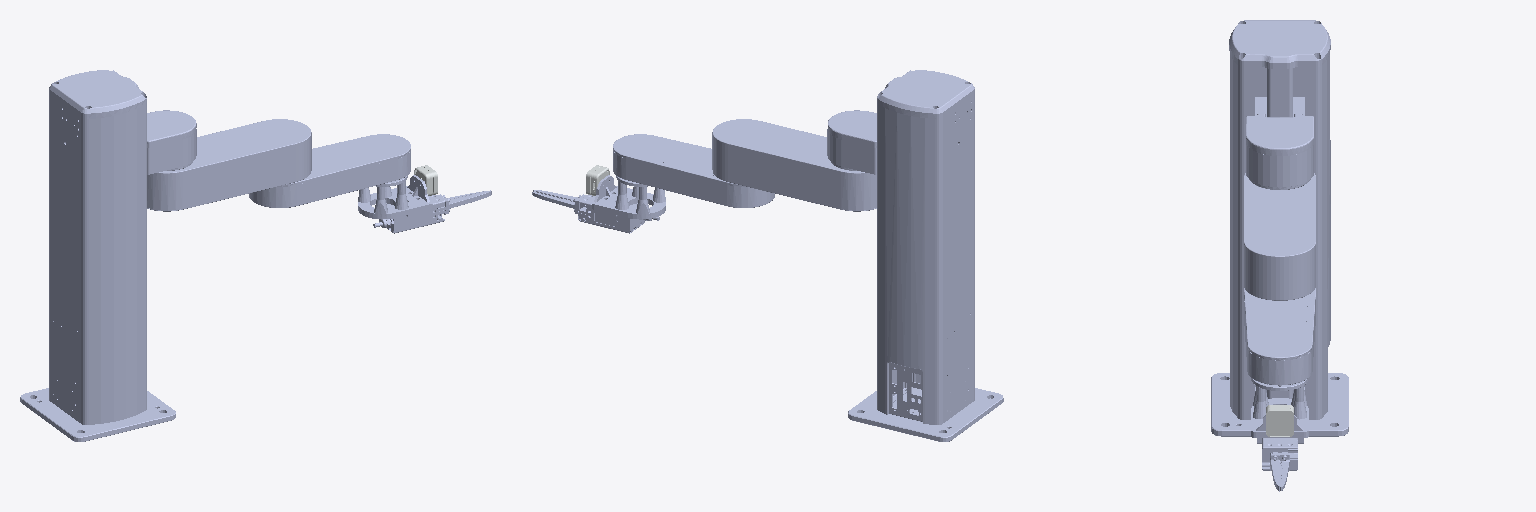
URDF robot description (hitbot_model):
<?xml version="1.0" encoding="utf-8"?>
<!-- This URDF was automatically created by SolidWorks to URDF Exporter! Originally created by [author] ([email redacted]) 
     Commit Version: 1.5.1-0-g916b5db  Build Version: 1.5.7152.31018
     For more information, please see http://wiki.ros.org/sw_urdf_exporter -->
<robot
  name="hitbot_model">
  <link name="world"/>
  <joint name="dz_joint" type="fixed">
      <parent link="world"/>
      <child link="body_link"/>
      <origin rpy="0 0 0" xyz="0.0 0.0 0"/>
  </joint>
  <link
    name="body_link">
    <inertial>
      <origin
        xyz="-0.0138312293560343 -0.000411866053746691 0.256337160167261"
        rpy="0 0 0" />
      <mass
        value="2.24199007833205" />
      <inertia
        ixx="0.050666129235398"
        ixy="5.31521674438104E-05"
        ixz="-0.000156170450349902"
        iyy="0.0494693482466178"
        iyz="-0.000576315154792083"
        izz="0.0102402447612877" />
    </inertial>
    <visual>
      <origin
        xyz="0 0 0"
        rpy="0 0 0" />
      <geometry>
        <mesh
          filename="package://hitbot_model/meshes/body_link.STL" />
      </geometry>
      <material
        name="">
        <color
          rgba="0.792156862745098 0.819607843137255 0.933333333333333 1" />
      </material>
    </visual>
    <collision>
      <origin
        xyz="0 0 0"
        rpy="0 0 0" />
      <geometry>
        <mesh
          filename="package://hitbot_model/meshes/body_link.STL" />
      </geometry>
    </collision>
  </link>
  <link
    name="base_link">
    <inertial>
      <origin
        xyz="-0.000504238516685096 1.59154905932969E-05 0.0050014568900997"
        rpy="0 0 0" />
      <mass
        value="0.094490170783716" />
      <inertia
        ixx="0.000178624359738372"
        ixy="-8.40549948296889E-08"
        ixz="2.54546420096447E-07"
        iyy="0.000156117511701691"
        iyz="-1.49252877491603E-08"
        izz="0.00033012228687413" />
    </inertial>
    <visual>
      <origin
        xyz="0 0 0"
        rpy="0 0 0" />
      <geometry>
        <mesh
          filename="package://hitbot_model/meshes/base_link.STL" />
      </geometry>
      <material
        name="">
        <color
          rgba="0.792156862745098 0.819607843137255 0.933333333333333 1" />
      </material>
    </visual>
    <collision>
      <origin
        xyz="0 0 0"
        rpy="0 0 0" />
      <geometry>
        <mesh
          filename="package://hitbot_model/meshes/base_link.STL" />
      </geometry>
    </collision>
  </link>
  <joint
    name="base_joint"
    type="fixed">
    <origin
      xyz="0.00090051088649255 7.09655350831888E-05 0.5959999999999"
      rpy="-3.14159265358979 0 0" />
    <parent
      link="body_link" />
    <child
      link="base_link" />
    <axis
      xyz="0 0 0" />
  </joint>
  <link
    name="link1">
    <inertial>
      <origin
        xyz="0.0803198875267692 0.000148780846096892 0.0252265897594202"
        rpy="0 0 0" />
      <mass
        value="0.993707406775757" />
      <inertia
        ixx="0.000950129221388707"
        ixy="1.444594708905E-05"
        ixz="-7.3306728552493E-05"
        iyy="0.0034288996904372"
        iyz="-2.09120551931999E-06"
        izz="0.00392501623548472" />
    </inertial>
    <visual>
      <origin
        xyz="0 0 0"
        rpy="0 0 0" />
      <geometry>
        <mesh
          filename="package://hitbot_model/meshes/link1.STL" />
      </geometry>
      <material
        name="">
        <color
          rgba="0.792156862745098 0.819607843137255 0.933333333333333 1" />
      </material>
    </visual>
    <collision>
      <origin
        xyz="0 0 0"
        rpy="0 0 0" />
      <geometry>
        <mesh
          filename="package://hitbot_model/meshes/link1.STL" />
      </geometry>
    </collision>
  </link>
  <joint
    name="joint1"
    type="prismatic">
    <origin
      xyz="0 0 0.1059"
      rpy="0 0 0" />
    <parent
      link="base_link" />
    <child
      link="link1" />
    <axis
      xyz="0 0 -1" />
    <limit
      lower="-0.24"
      upper="0"
      effort="20000"
      velocity="1" />
  </joint>
  <link
    name="link2">
    <inertial>
      <origin
        xyz="0.111249550444613 -2.84576828027787E-05 0.0351257105818027"
        rpy="0 0 0" />
      <mass
        value="2.38895531285534" />
      <inertia
        ixx="0.00304095107135875"
        ixy="-2.82822461071595E-06"
        ixz="-9.45396417967291E-05"
        iyy="0.019383542501021"
        iyz="1.44224511595836E-08"
        izz="0.0205254157711382" />
    </inertial>
    <visual>
      <origin
        xyz="0 0 0"
        rpy="0 0 0" />
      <geometry>
        <mesh
          filename="package://hitbot_model/meshes/link2.STL" />
      </geometry>
      <material
        name="">
        <color
          rgba="0.792156862745098 0.819607843137255 0.933333333333333 1" />
      </material>
    </visual>
    <collision>
      <origin
        xyz="0 0 0"
        rpy="0 0 0" />
      <geometry>
        <mesh
          filename="package://hitbot_model/meshes/link2.STL" />
      </geometry>
    </collision>
  </link>
  <joint
    name="joint2"
    type="revolute">
    <origin
      xyz="0.13184 0 0.057"
      rpy="0 0 0" />
    <parent
      link="link1" />
    <child
      link="link2" />
    <axis
      xyz="0 0 -1" />
    <limit
      lower="-1.57"
      upper="1.57"
      effort="20"
      velocity="1" />
  </joint>
  <link
    name="link3">
    <inertial>
      <origin
        xyz="0.103737453550935 0.000112252164890934 0.0245926645099695"
        rpy="0 0 0" />
      <mass
        value="1.27407967572994" />
      <inertia
        ixx="0.00115905903075006"
        ixy="1.78715743351137E-06"
        ixz="7.11254737335535E-06"
        iyy="0.00812504052713108"
        iyz="3.79494507754339E-07"
        izz="0.00893595498849774" />
    </inertial>
    <visual>
      <origin
        xyz="0 0 0"
        rpy="0 0 0" />
      <geometry>
        <mesh
          filename="package://hitbot_model/meshes/link3.STL" />
      </geometry>
      <material
        name="">
        <color
          rgba="0.792156862745098 0.819607843137255 0.933333333333333 1" />
      </material>
    </visual>
    <collision>
      <origin
        xyz="0 0 0"
        rpy="0 0 0" />
      <geometry>
        <mesh
          filename="package://hitbot_model/meshes/link3.STL" />
      </geometry>
    </collision>
  </link>
  <joint
    name="joint3"
    type="revolute">
    <origin
      xyz="0.22 -9.923E-05 0.0722"
      rpy="0 0 0" />
    <parent
      link="link2" />
    <child
      link="link3" />
    <axis
      xyz="0 0 -1" />
    <limit
      lower="-2.861"
      upper="0.093"
      effort="20"
      velocity="1" />
  </joint>
  <link
    name="link4">
    <inertial>
      <origin
        xyz="0.047710269908173 0.000213944685098902 0.0678912049954343"
        rpy="0 0 0" />
      <mass
        value="0.328984309694729" />
      <inertia
        ixx="0.000170449435352089"
        ixy="2.86360847822236E-06"
        ixz="-1.39959892192081E-05"
        iyy="0.000321403964098005"
        iyz="1.9821560726031E-07"
        izz="0.000398137912962931" />
    </inertial>
    <visual>
      <origin
        xyz="0 0 0"
        rpy="0 0 0" />
      <geometry>
        <mesh
          filename="package://hitbot_model/meshes/link4.STL" />
      </geometry>
      <material
        name="">
        <color
          rgba="0.792156862745098 0.819607843137255 0.933333333333333 1" />
      </material>
    </visual>
    <collision>
      <origin
        xyz="0 0 0"
        rpy="0 0 0" />
      <geometry>
        <mesh
          filename="package://hitbot_model/meshes/link4.STL" />
      </geometry>
    </collision>
  </link>
  <joint
    name="joint4"
    type="revolute">
    <origin
      xyz="0.2 0 0.0564"
      rpy="0 0 0" />
    <parent
      link="link3" />
    <child
      link="link4" />
    <axis
      xyz="0 0 -1" />
    <limit
      lower="-1.75"
      upper="1.75"
      effort="20"
      velocity="1" />
  </joint>
  <link
    name="camera_link">
    <inertial>
      <origin
        xyz="0.00721963040168849 -0.00886926154340457 0.000111441430784953"
        rpy="0 0 0" />
      <mass
        value="0.0107124467344152" />
      <inertia
        ixx="3.22097833750869E-06"
        ixy="6.5946739159959E-10"
        ixz="-1.78662070158775E-09"
        iyy="1.65806785361262E-06"
        iyz="3.75795546802764E-10"
        izz="1.834323215729E-06" />
    </inertial>
    <visual>
      <origin
        xyz="0 0 0"
        rpy="0 0 0" />
      <geometry>
        <mesh
          filename="package://hitbot_model/meshes/camera_link.STL" />
      </geometry>
      <material
        name="">
        <color
          rgba="0.898039215686275 0.917647058823529 0.929411764705882 1" />
      </material>
    </visual>
    <collision>
      <origin
        xyz="0 0 0"
        rpy="0 0 0" />
      <geometry>
        <mesh
          filename="package://hitbot_model/meshes/camera_link.STL" />
      </geometry>
    </collision>
  </link>
  <joint
    name="joint_camera"
    type="fixed">
    <origin
      xyz="0.08035 -0.009 0.0285"
      rpy="-3.1416 0 0" />
    <parent
      link="link4" />
    <child
      link="camera_link" />
    <axis
      xyz="0 0 0" />
  </joint>
  <link
    name="ee_link">
    <inertial>
      <origin
        xyz="-0.120961196947787 0.000840350747411248 0.0025036714107482"
        rpy="0 0 0" />
      <mass
        value="0.206819921782837" />
      <inertia
        ixx="6.24479115732683E-05"
        ixy="2.8640247649744E-06"
        ixz="-1.57867719100882E-08"
        iyy="0.00015978421821829"
        iyz="1.9833864532431E-07"
        izz="0.000179272223884709" />
    </inertial>
  </link>
  <joint
    name="ee_joint"
    type="fixed">
    <origin
      xyz="0.18355 -0.0005 0.077"
      rpy="3.14159265358979 0 0" />
    <parent
      link="link4" />
    <child
      link="ee_link" />
    <axis
      xyz="0 0 0" />
  </joint>


  <transmission name="link_1_trans">
	<type>transmission_interface/SimpleTransmission</type>
	<joint name="joint1">
		<hardwareInterface>hardware_interface/PositionJointInterface</hardwareInterface>
	</joint>
	<actuator name="link_1_motor">
		<hardwareInterface>hardware_interface/PositionJointInterface</hardwareInterface>
		<mechanicalReduction>1</mechanicalReduction>
	</actuator>
  </transmission>

  <transmission name="link_2_trans">
	<type>transmission_interface/SimpleTransmission</type>
	<joint name="joint2">
		<hardwareInterface>hardware_interface/PositionJointInterface</hardwareInterface>
	</joint>
	<actuator name="link_2_motor">
		<hardwareInterface>hardware_interface/PositionJointInterface</hardwareInterface>
		<mechanicalReduction>1</mechanicalReduction>
	</actuator>
  </transmission>

  <transmission name="link_3_trans">
	<type>transmission_interface/SimpleTransmission</type>
	<joint name="joint3">
		<hardwareInterface>hardware_interface/PositionJointInterface</hardwareInterface>
	</joint>
	<actuator name="link_3_motor">
		<hardwareInterface>hardware_interface/PositionJointInterface</hardwareInterface>
		<mechanicalReduction>1</mechanicalReduction>
	</actuator>
  </transmission>

  <transmission name="link_4_trans">
	<type>transmission_interface/SimpleTransmission</type>
	<joint name="joint4">
		<hardwareInterface>hardware_interface/PositionJointInterface</hardwareInterface>
	</joint>
	<actuator name="link_4_motor">
		<hardwareInterface>hardware_interface/PositionJointInterface</hardwareInterface>
		<mechanicalReduction>1</mechanicalReduction>
	</actuator>
  </transmission>
  <gazebo>
	<plugin name="control" filename="libgazebo_ros_control.so">
		<robotNamespace>/</robotNamespace>
	</plugin>
  </gazebo>

  <gazebo reference="link1">
	<selfCollide>true</selfCollide>
  </gazebo>

  <gazebo reference="link2">
	<selfCollide>true</selfCollide>
  </gazebo>

  <gazebo reference="link3">
	<selfCollide>true</selfCollide>
  </gazebo>

  <gazebo reference="link4">
	<selfCollide>true</selfCollide>
  </gazebo>
  
</robot>

--- What the picture shows (computed from the rendered views, not written in the file) ---
The picture shows the robot from 3 angles, left to right: view 1: azimuth 30°, elevation 25°; view 2: azimuth 150°, elevation 25°; view 3: azimuth 270°, elevation 25°; orthographic projection.
Robot: hitbot_model — 9 links, 8 joints (3 revolute, 1 prismatic, 4 fixed); root link world; default pose: every joint at zero.
Links seen in each view (by area): view 1: body_link, link2, link3, link4, link1; view 2: body_link, link2, link3, link4, link1; view 3: body_link, link2, link3, link1, link4, camera_link.
Boxes of the visible links, bbox=[...] form: body_link: bbox=[20, 70, 175, 441]; link2: bbox=[147, 119, 311, 211]; link3: bbox=[249, 134, 410, 207]; link4: bbox=[358, 175, 491, 233]; link1: bbox=[147, 110, 196, 174]; body_link: bbox=[848, 70, 1003, 441]; link2: bbox=[712, 119, 876, 211]; link3: bbox=[613, 134, 774, 207]; link4: bbox=[532, 175, 665, 233]; link1: bbox=[827, 110, 876, 174]; body_link: bbox=[1211, 20, 1348, 436]; link2: bbox=[1244, 173, 1315, 300]; link3: bbox=[1244, 288, 1315, 390]; link1: bbox=[1246, 97, 1313, 189]; link4: bbox=[1251, 386, 1308, 491]; camera_link: bbox=[1266, 405, 1293, 436].
Size in the robot's own frame: 0.8629 by 0.2 by 0.596 metres.
7 mesh visuals loaded from 7 distinct referenced files (7 binary STL).